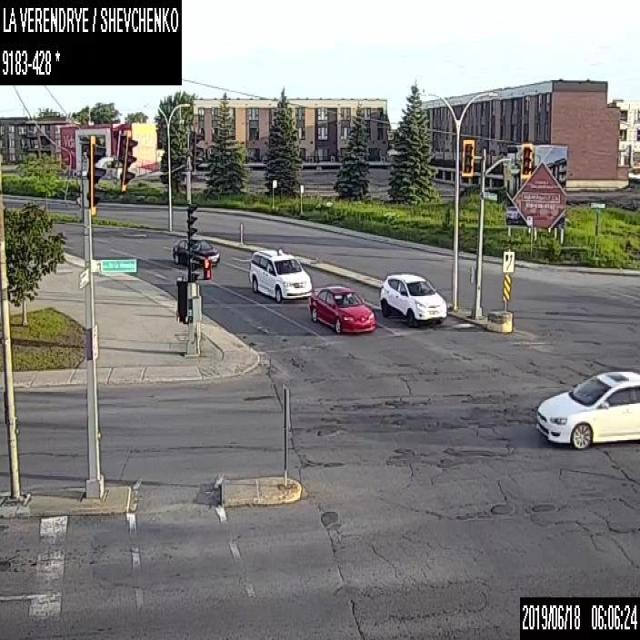vehicle: (536, 370, 639, 450), (380, 271, 446, 326), (248, 246, 312, 300), (309, 283, 377, 332), (171, 236, 219, 267)
